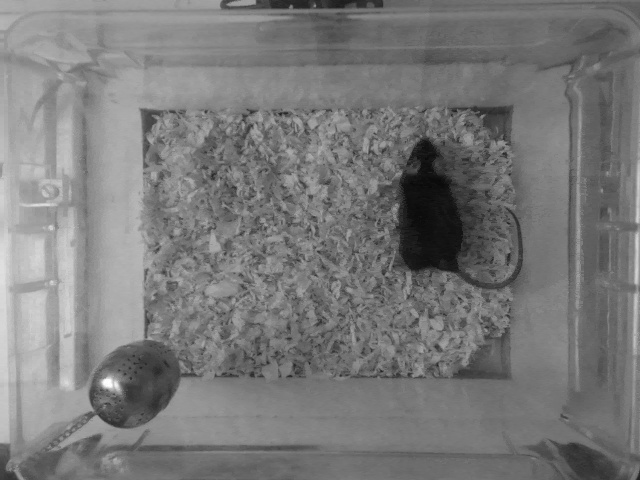mice: (396, 137, 531, 291)
